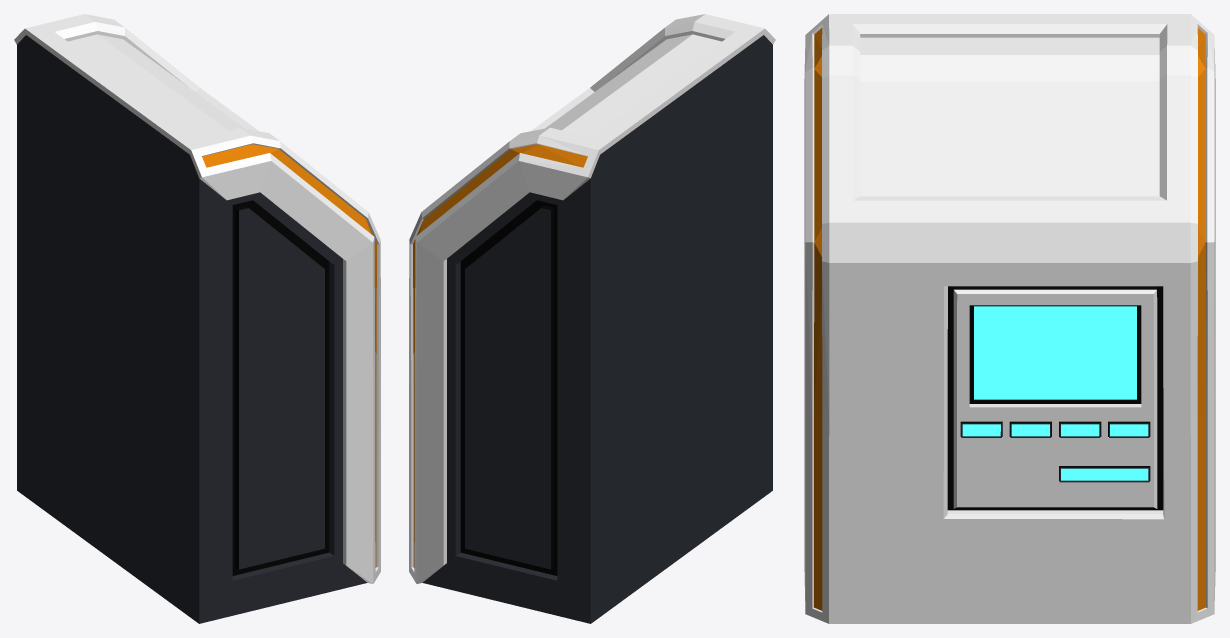
Rendered from SM_Wall_Relay_Unit.fbx.
3 renders of one model, left to right at view 1: azimuth 30°, elevation 25°; view 2: azimuth 150°, elevation 25°; view 3: azimuth 270°, elevation 25°, orthographic. The views are drawn at different scales.
Visible parts, largest first — view 1: SM_Wall_Relay_Unit; view 2: SM_Wall_Relay_Unit; view 3: SM_Wall_Relay_Unit.
Part boxes in pixels (x1,y1,x2,y2): SM_Wall_Relay_Unit: (14,14,380,623); SM_Wall_Relay_Unit: (409,14,775,623); SM_Wall_Relay_Unit: (804,14,1215,623).
Size of the model in its own units: 11.99 by 28.17 by 20.61.
